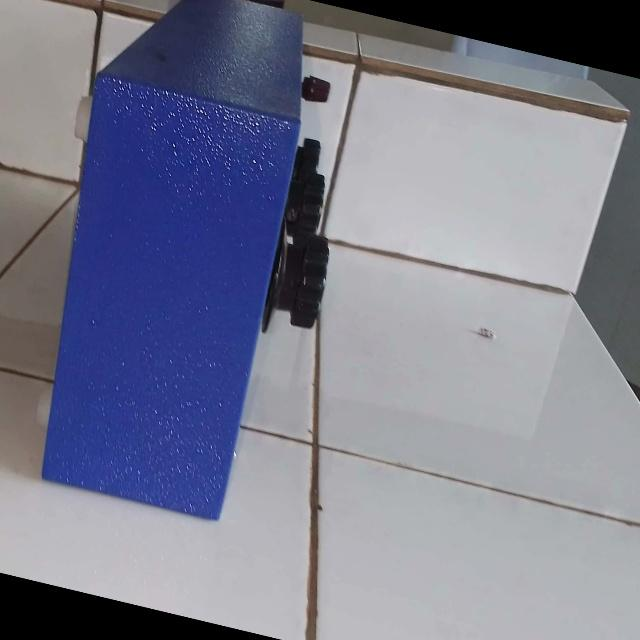Decade Capacitor Box: (7, 0, 380, 548)
